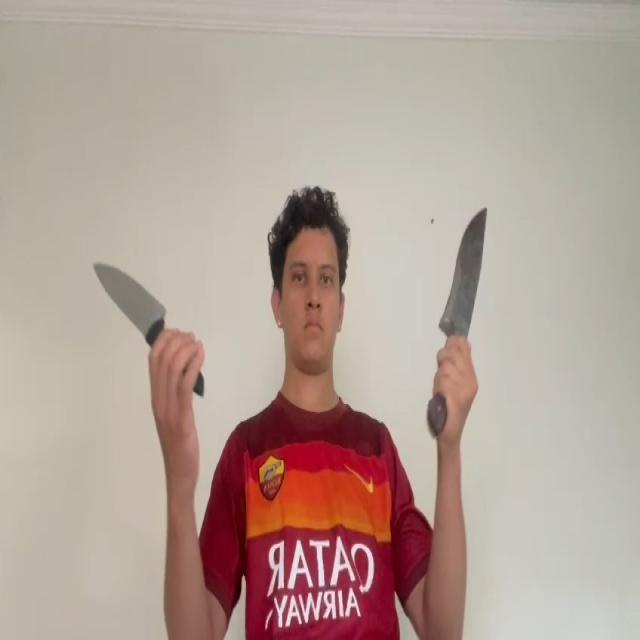knife: (439, 206, 489, 330), (91, 262, 165, 321)
